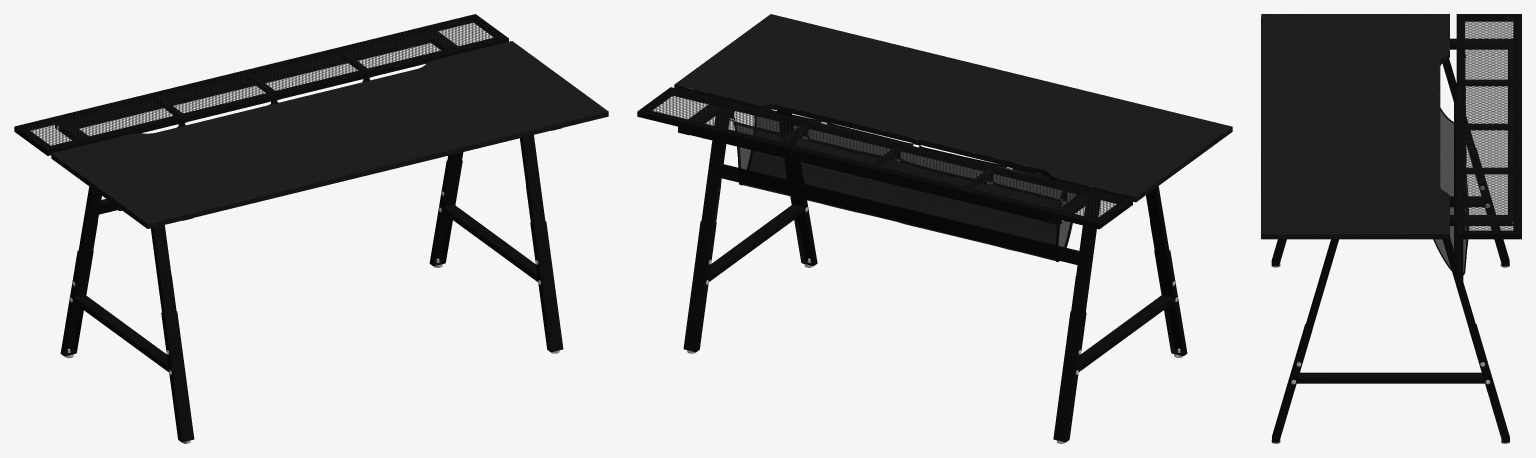
The picture shows the model from 3 angles, left to right: view 1: azimuth 30°, elevation 25°; view 2: azimuth 150°, elevation 25°; view 3: azimuth 270°, elevation 25°; orthographic projection. The views are drawn at different scales.
Visible parts, largest first — view 1: world; view 2: world; view 3: world.
Boxes of the visible parts, x1,y1,x2,y2 form: world: (14,14,608,443); world: (637,14,1232,443); world: (1261,14,1521,443).
Bounding box in the file's own units: 1.6 × 0.78 × 0.8.
Materials: 2 (2 with a texture image).
